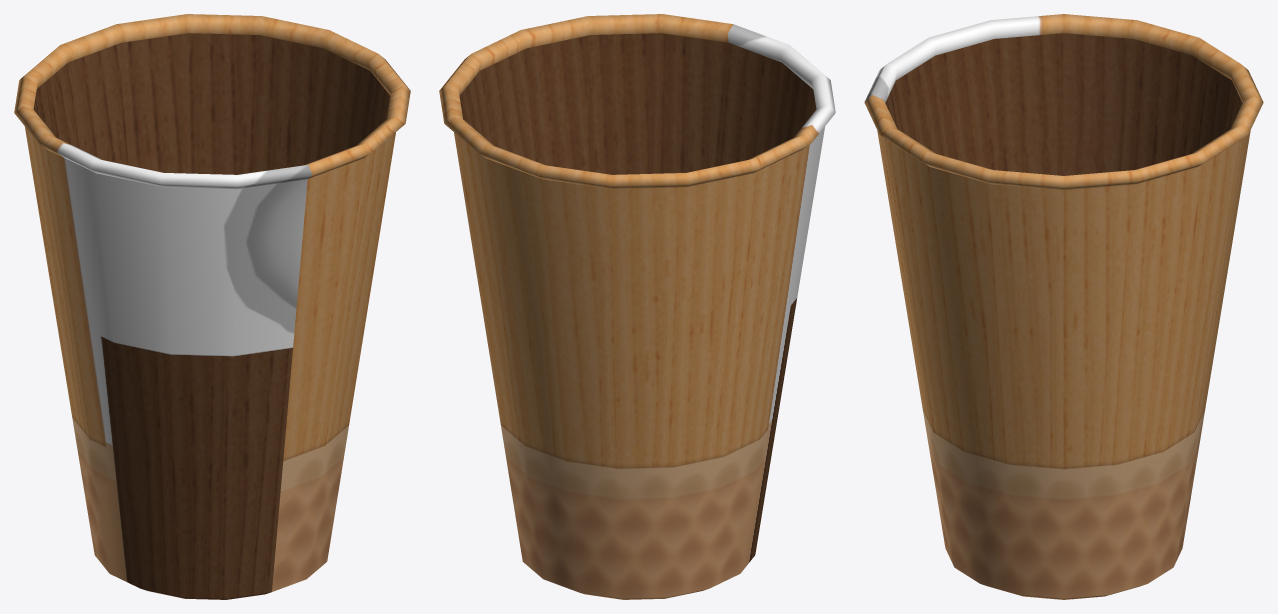
Rendered from Milkshake_Cup_Plastic.fbx.
3 renders of one model, left to right at view 1: azimuth 30°, elevation 25°; view 2: azimuth 150°, elevation 25°; view 3: azimuth 270°, elevation 25°, orthographic.
Parts seen in each view (by area): view 1: Milkshake_Cup_Plastic; view 2: Milkshake_Cup_Plastic; view 3: Milkshake_Cup_Plastic.
Boxes of the visible parts, left/top/right/bottom form: Milkshake_Cup_Plastic: left=14, top=14, right=410, bottom=599; Milkshake_Cup_Plastic: left=439, top=14, right=835, bottom=599; Milkshake_Cup_Plastic: left=864, top=14, right=1263, bottom=599.
Bounding box in the file's own units: 57.1 × 72.63 × 57.1.
